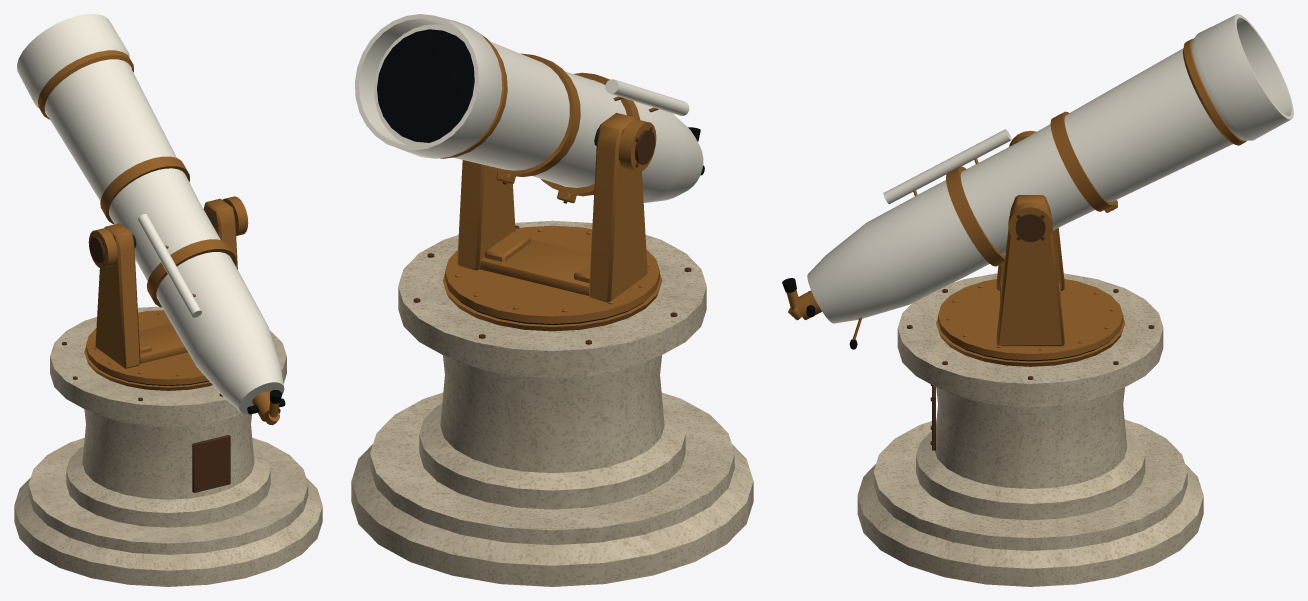
Rendered from observatory-telescope.lod0.glb.
The picture shows the model from 3 angles, left to right: view 1: azimuth 30°, elevation 25°; view 2: azimuth 150°, elevation 25°; view 3: azimuth 270°, elevation 25°; orthographic projection. The views are drawn at different scales.
Visible parts, largest first — view 1: observatory_telescope_Stone • warm limestone, Telescope_Altitude_Ceramic • warm ivory, Telescope_Azimuth_Trim • places palette, Telescope_Altitude_Trim • places palette, observatory_telescope_Trim • places palette; view 2: observatory_telescope_Stone • warm limestone, Telescope_Azimuth_Trim • places palette, Telescope_Altitude_Ceramic • warm ivory, Telescope_Altitude_Trim • places palette; view 3: observatory_telescope_Stone • warm limestone, Telescope_Altitude_Ceramic • warm ivory, Telescope_Azimuth_Trim • places palette, Telescope_Altitude_Trim • places palette.
Boxes of the visible parts, x1=… form: observatory_telescope_Stone • warm limestone: x1=14, y1=306, x2=322, y2=586; Telescope_Altitude_Ceramic • warm ivory: x1=17, y1=14, x2=284, y2=414; Telescope_Azimuth_Trim • places palette: x1=84, y1=196, x2=248, y2=390; Telescope_Altitude_Trim • places palette: x1=38, y1=50, x2=285, y2=425; observatory_telescope_Trim • places palette: x1=62, y1=342, x2=230, y2=492; observatory_telescope_Stone • warm limestone: x1=351, y1=220, x2=753, y2=586; Telescope_Azimuth_Trim • places palette: x1=442, y1=113, x2=662, y2=331; Telescope_Altitude_Ceramic • warm ivory: x1=355, y1=14, x2=703, y2=202; Telescope_Altitude_Trim • places palette: x1=377, y1=29, x2=704, y2=203; observatory_telescope_Stone • warm limestone: x1=857, y1=273, x2=1203, y2=586; Telescope_Altitude_Ceramic • warm ivory: x1=807, y1=14, x2=1293, y2=323; Telescope_Azimuth_Trim • places palette: x1=936, y1=130, x2=1124, y2=366; Telescope_Altitude_Trim • places palette: x1=782, y1=38, x2=1246, y2=349.
Size of the model in its own units: 1.72 by 2.71 by 2.54.
Materials: 3 (2 with a texture image).
